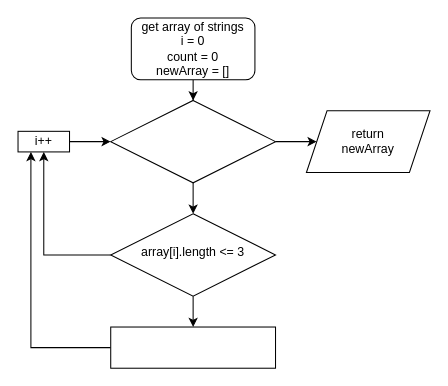
Image size: 448x386. Some labels were removed from this diagram. Here are the shapes that lost their labels. From the top down, the box of each, then its label:
(110, 99, 276, 183): i < array.length
(110, 326, 276, 368): newArray[count] = array[i] count++
